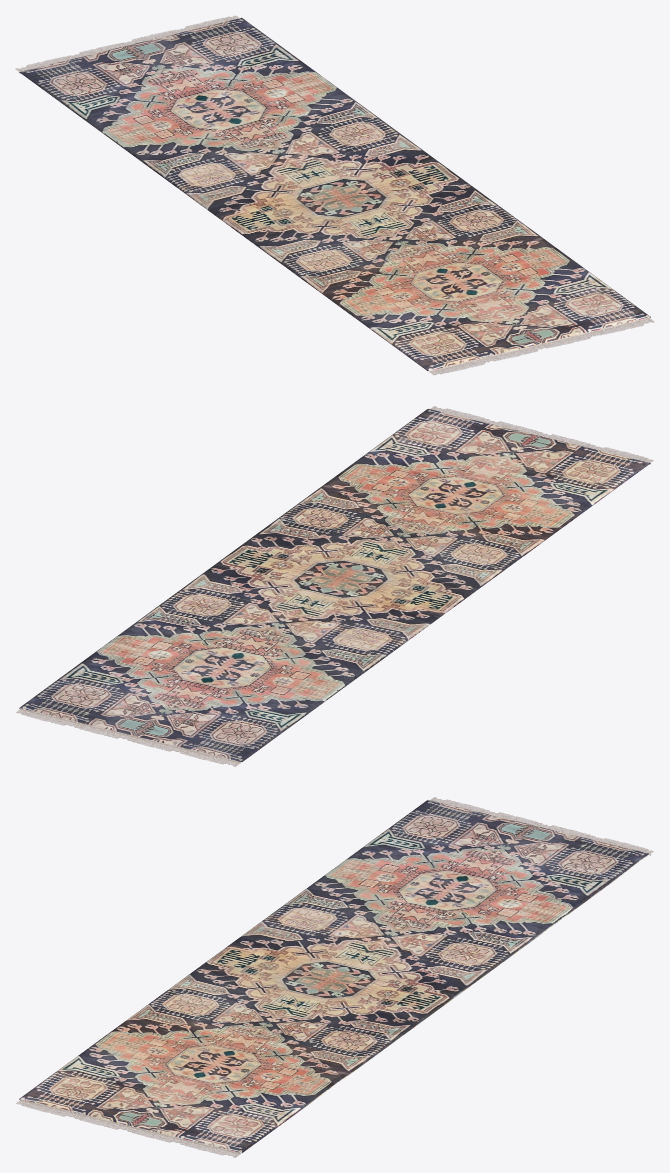
Rendered from vintage-persa-661856.glb.
3 views of the same model, one above another, from view 1: azimuth 30°, elevation 25°; view 2: azimuth 150°, elevation 25°; view 3: azimuth 330°, elevation 25° (orthographic).
Parts seen in each view (by area): view 1: rug; view 2: rug; view 3: rug.
Part boxes in pixels (left/top/right/bottom): rug: left=15, top=15, right=654, bottom=375; rug: left=16, top=406, right=653, bottom=766; rug: left=16, top=797, right=653, bottom=1157.
Size of the model in its own units: 0.81 by 0.0112 by 2.65.
7 materials, 6 textured.
